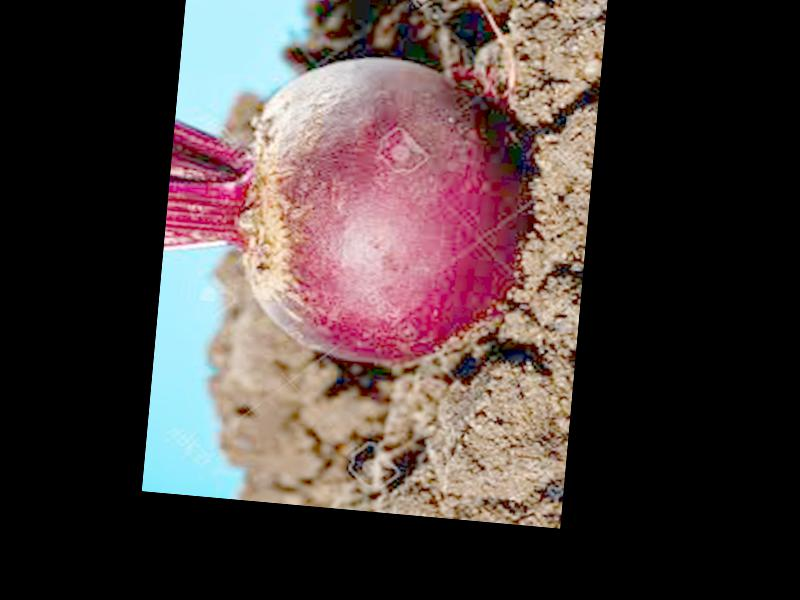Beet: (157, 38, 539, 374)
